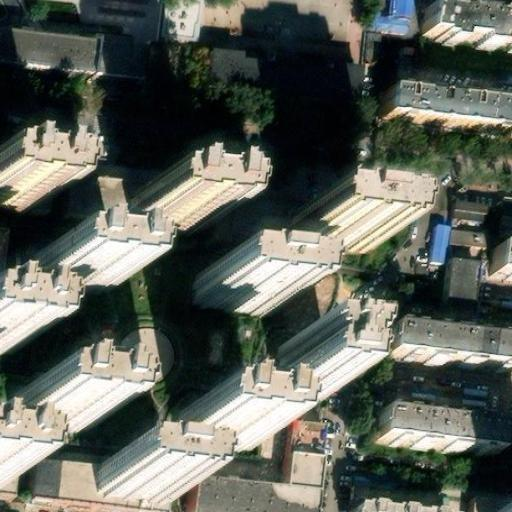building: (189, 418, 326, 512), (187, 52, 360, 112), (0, 35, 154, 98), (377, 87, 512, 137), (383, 322, 512, 371), (371, 407, 497, 456), (420, 1, 512, 48), (192, 272, 279, 320), (282, 216, 375, 260), (27, 253, 112, 300), (121, 195, 207, 240), (12, 392, 97, 434), (91, 471, 175, 512), (175, 412, 258, 453), (279, 325, 333, 384), (438, 256, 477, 320), (230, 209, 287, 248), (360, 0, 410, 36), (0, 179, 38, 224), (446, 229, 490, 262), (167, 0, 198, 41), (472, 276, 512, 305), (427, 227, 450, 277), (448, 201, 487, 224), (0, 317, 20, 357), (465, 496, 512, 512), (489, 234, 512, 266), (440, 494, 468, 512)
